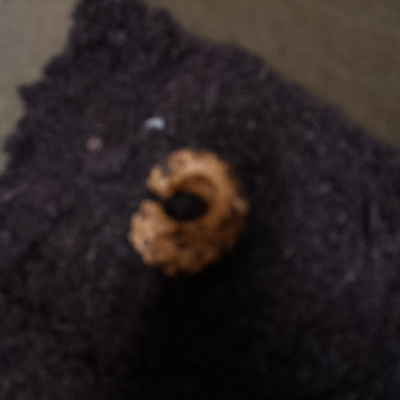eggs: (122, 141, 257, 280)
